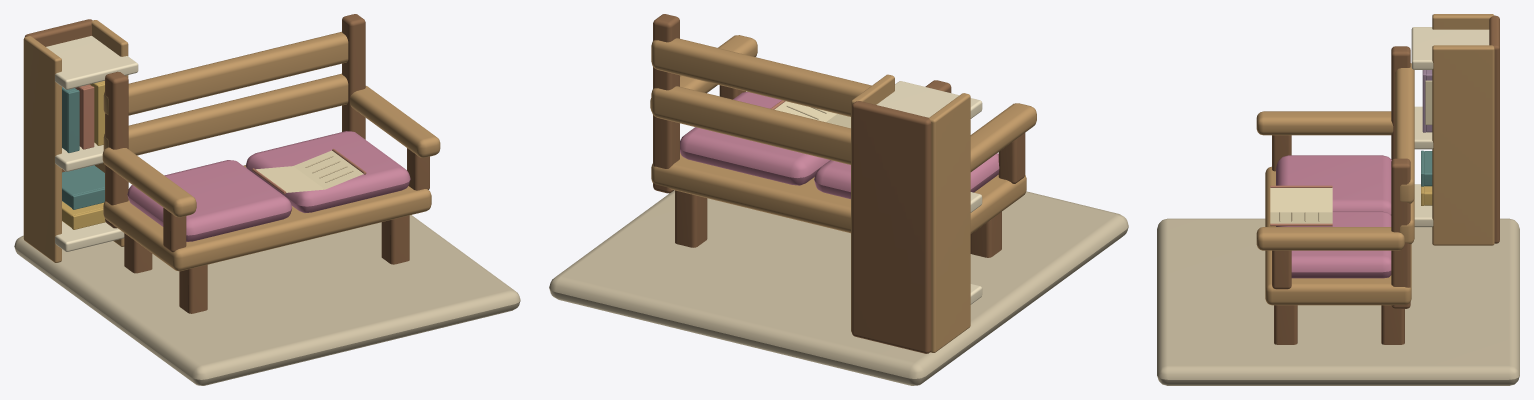
File: cozy_nook.glb
The picture shows the model from 3 angles, left to right: view 1: azimuth 30°, elevation 25°; view 2: azimuth 150°, elevation 25°; view 3: azimuth 270°, elevation 25°; orthographic projection. The views are drawn at different scales.
Parts seen in each view (by area): view 1: nook_StoneLight, nook_TimberLight, nook_Fabric, nook_Timber, nook_Trim, nook_BookBlue, SeatBook_Paper, nook_BookGold, nook_BookRed; view 2: nook_StoneLight, nook_TimberLight, nook_Timber, nook_Fabric, nook_Trim, SeatBook_Paper; view 3: nook_StoneLight, nook_TimberLight, nook_Fabric, nook_Timber, nook_Trim, SeatBook_Paper, SeatBook_BookRed, nook_BookBlue, nook_BookPlum, nook_Paper.
Boxes of the visible parts, box(x1,y1,x2,y2) form: nook_StoneLight: box(14, 215, 520, 385); nook_TimberLight: box(23, 20, 440, 271); nook_Fabric: box(127, 131, 410, 241); nook_Timber: box(25, 14, 429, 313); nook_Trim: box(46, 36, 138, 251); nook_BookBlue: box(62, 87, 104, 209); SeatBook_Paper: box(256, 150, 363, 192); nook_BookGold: box(62, 81, 105, 229); nook_BookRed: box(75, 84, 94, 149); nook_StoneLight: box(549, 190, 1128, 385); nook_TimberLight: box(650, 35, 1036, 352); nook_Timber: box(653, 14, 1025, 353); nook_Fabric: box(680, 92, 999, 199); nook_Trim: box(876, 81, 982, 304); SeatBook_Paper: box(774, 101, 850, 128); nook_StoneLight: box(1157, 218, 1519, 385); nook_TimberLight: box(1256, 14, 1494, 305); nook_Fabric: box(1276, 155, 1391, 278); nook_Timber: box(1272, 15, 1499, 344); nook_Trim: box(1411, 27, 1489, 227); SeatBook_Paper: box(1270, 188, 1332, 223); SeatBook_BookRed: box(1270, 185, 1332, 226); nook_BookBlue: box(1421, 150, 1432, 186); nook_BookPlum: box(1422, 70, 1432, 132); nook_Paper: box(1425, 80, 1432, 124).
Bounding box in the file's own units: 1.88 × 1.25 × 1.86.
